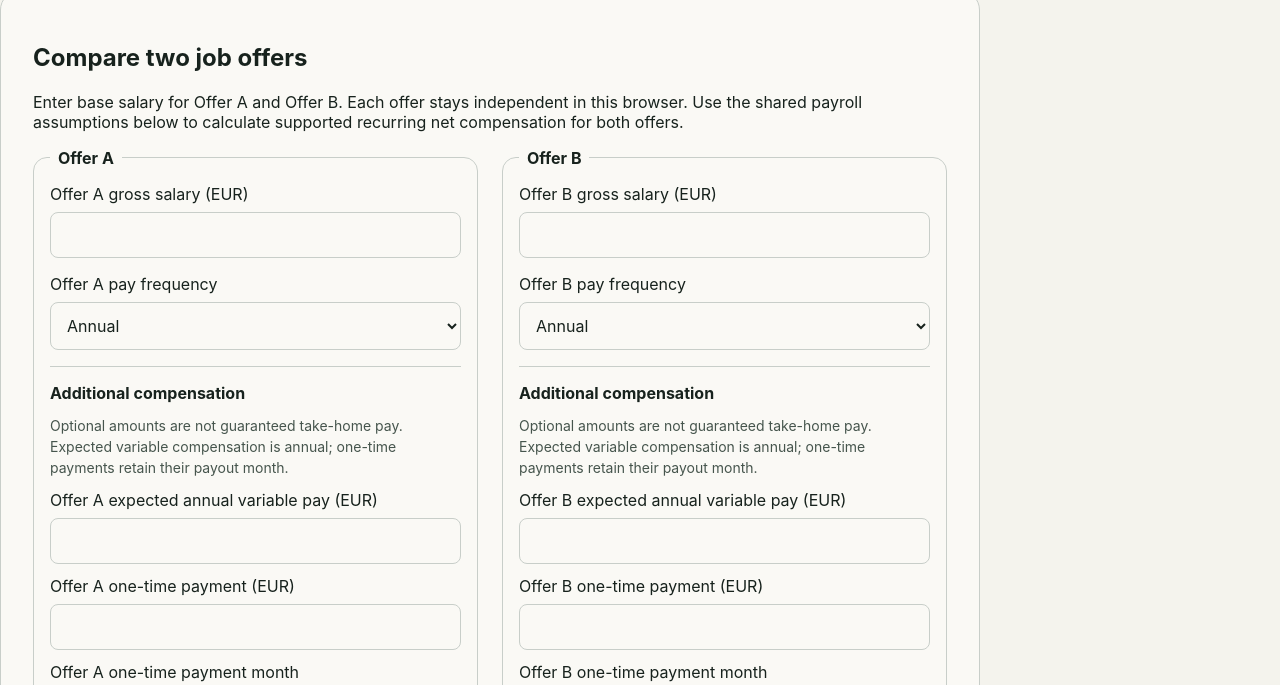
it: NP-CMP-002 offer salary inputs › keeps offer A and B independent and can copy one into the other
The image size is (1280, 685).
Type "85000" into the field labelled "Offer A gross salary (EUR)" at (256, 235), box [50,212,461,258]
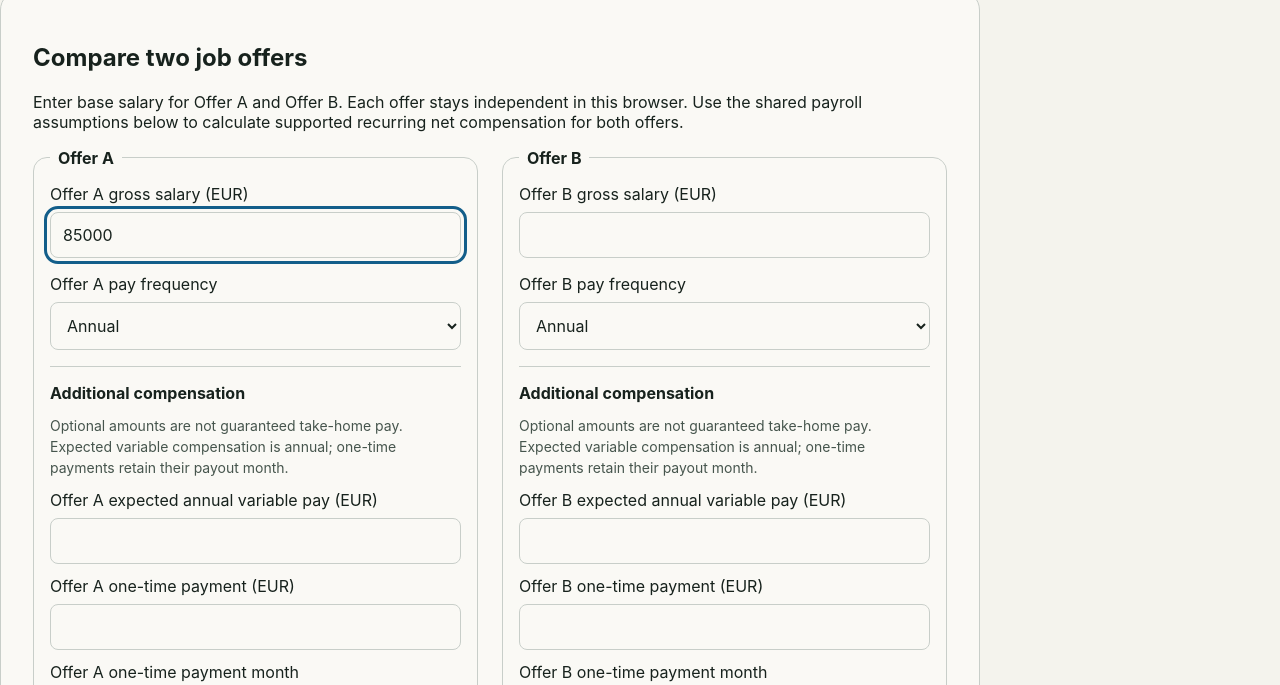
Type "92000" into the field labelled "Offer B gross salary (EUR)" at (724, 235), box [519,212,930,258]
(page scrolled)
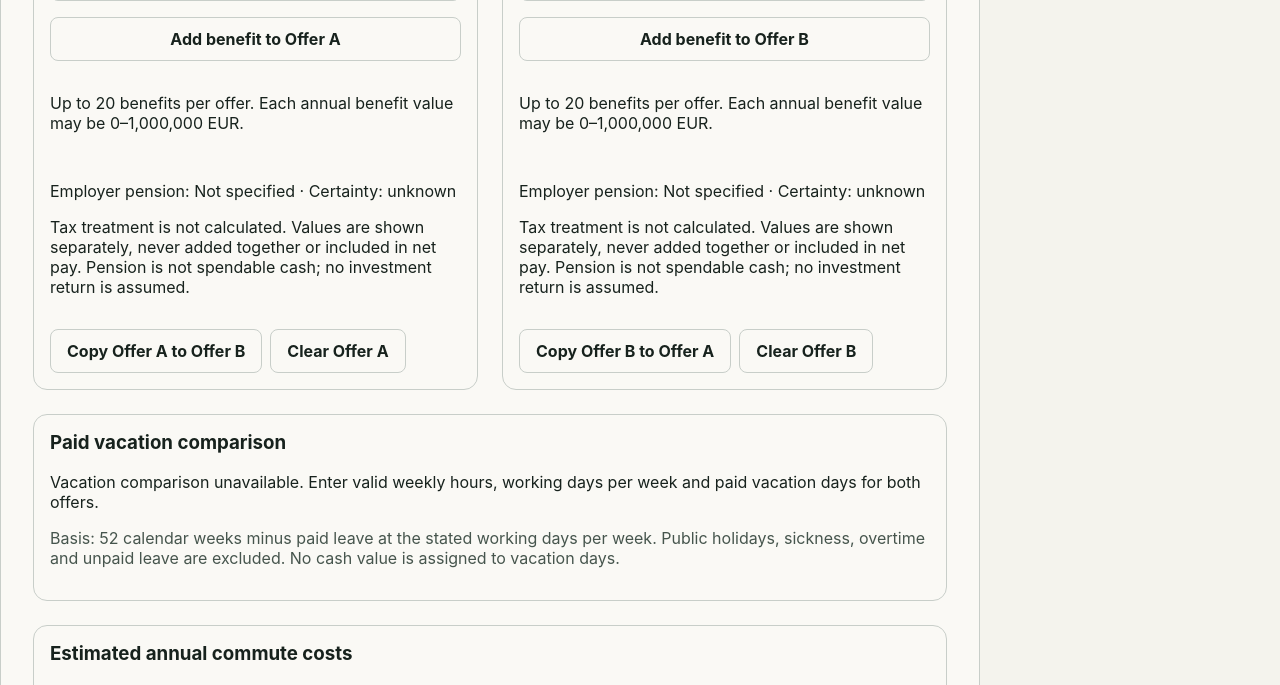
Click the button "Copy Offer A to Offer B" at (156, 351), box [50,329,262,373]
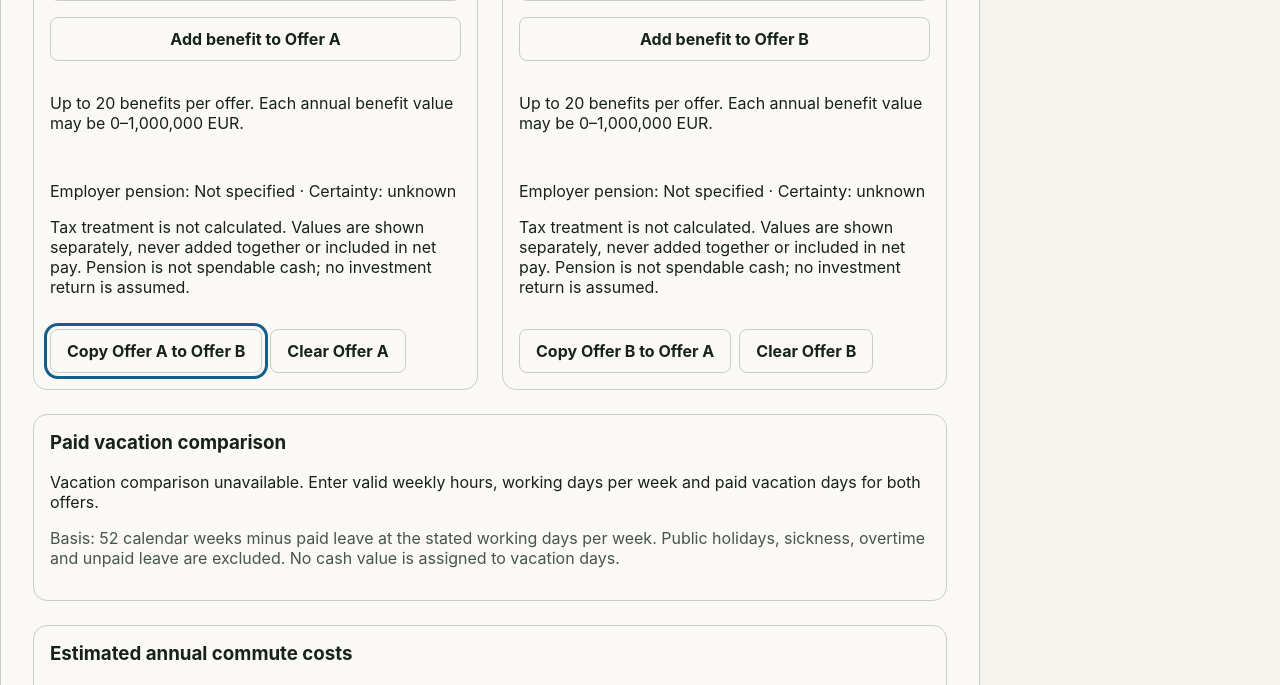
Click the button "Clear Offer B" at (806, 351), box [739,329,873,373]
(page scrolled)
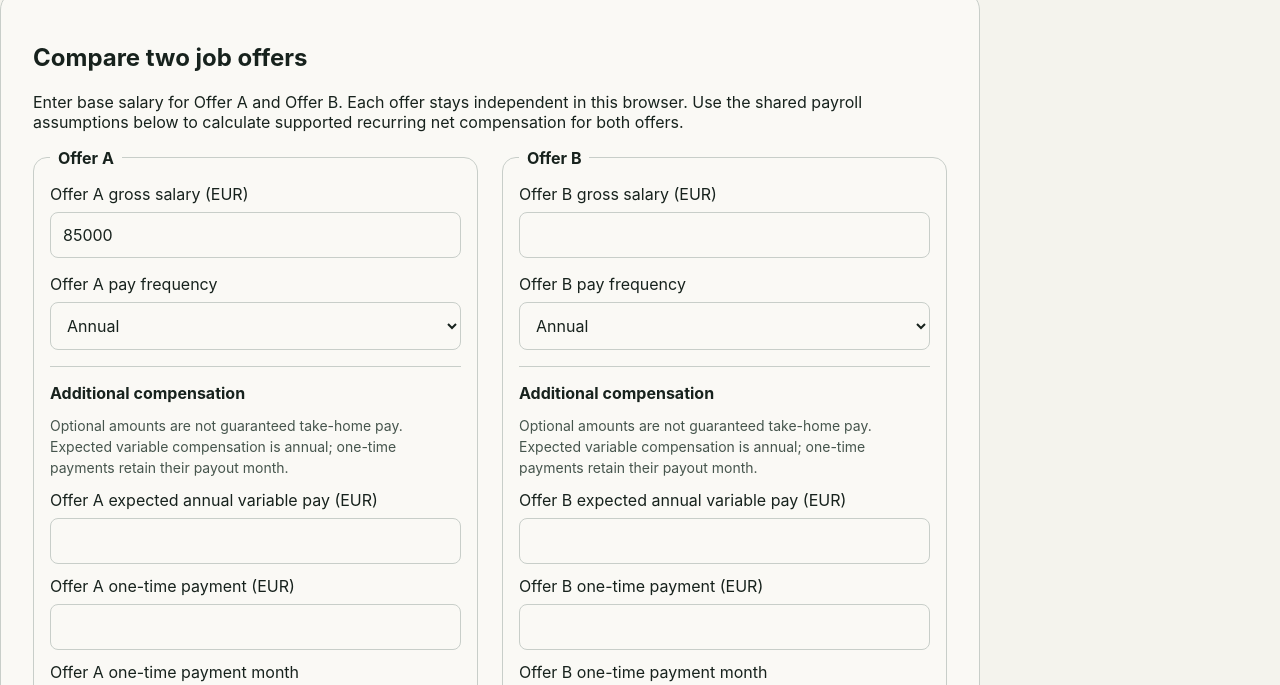
Result: the field labelled "Offer B gross salary (EUR)" is empty at [519,212,930,258]
